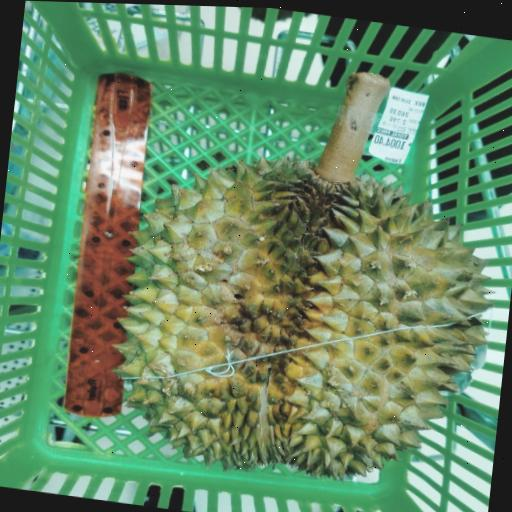rot: (47, 11, 512, 510)
